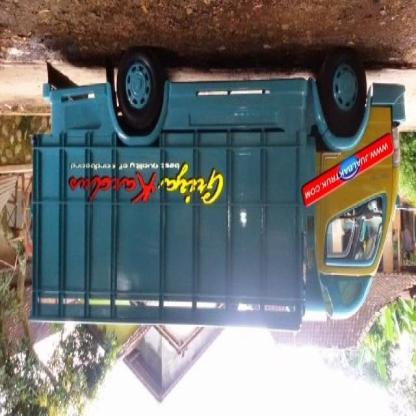truck: (30, 44, 408, 335)
